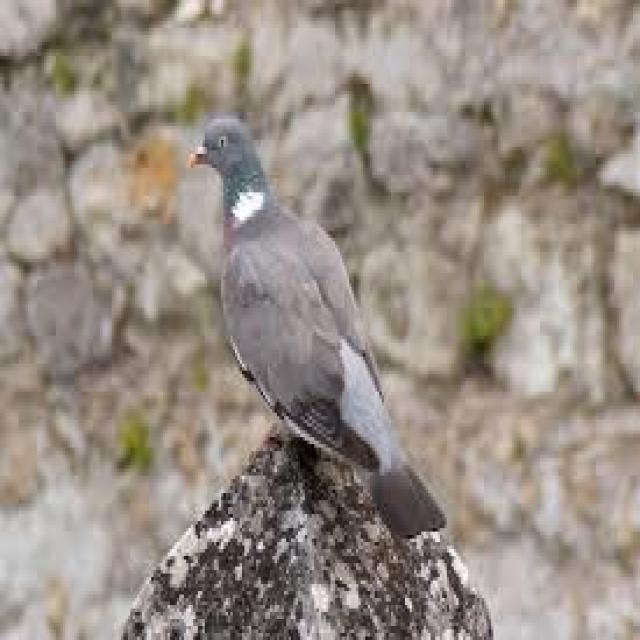pigeon: (172, 78, 468, 546)
